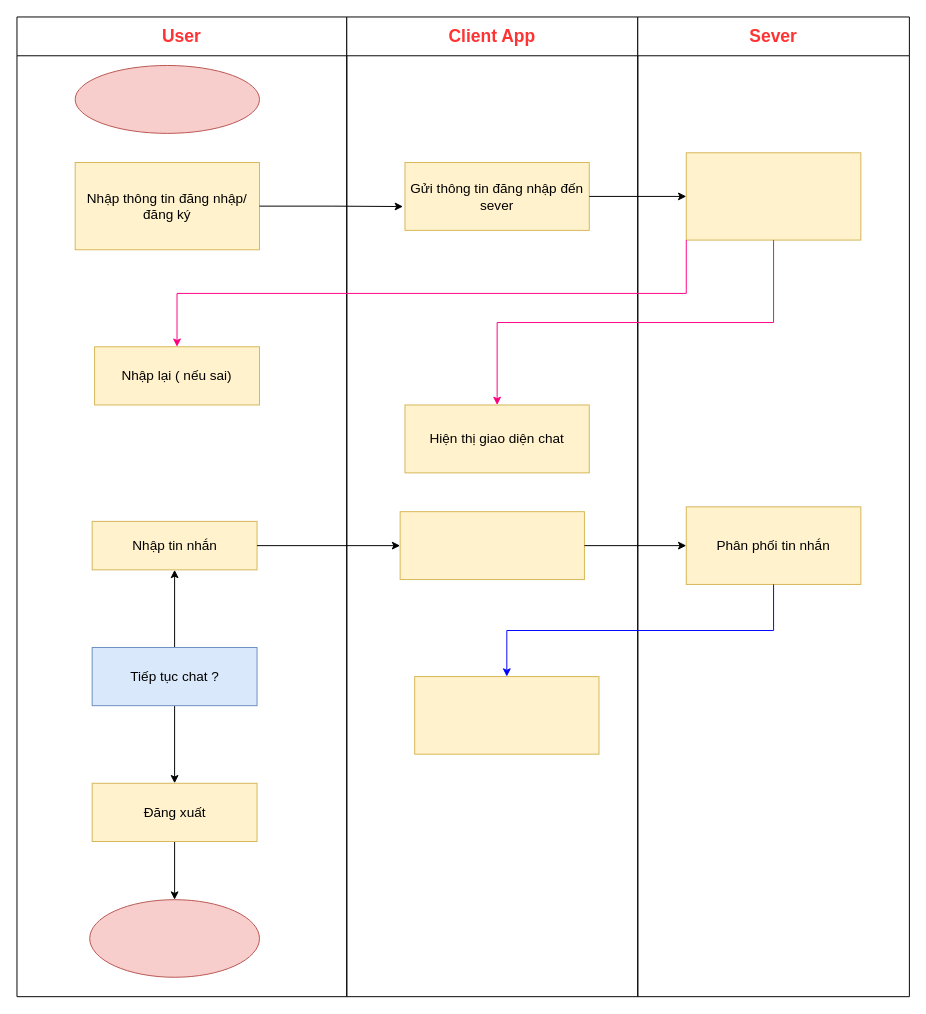
Image size: 926x1014. Some labels were removed from this diagram. The box of each missing label's shape, as (x1, y1, x2, y2) in pixels:
Bắt đầu: (74, 65, 259, 133)
Gửi tin nhắn đến sever: (399, 511, 584, 580)
Kiểm tra thông tin hợp lệ: (685, 152, 861, 240)
Kết thúc: (89, 899, 259, 977)
Nhận và hiển thị tin nhắn: (414, 676, 599, 754)
